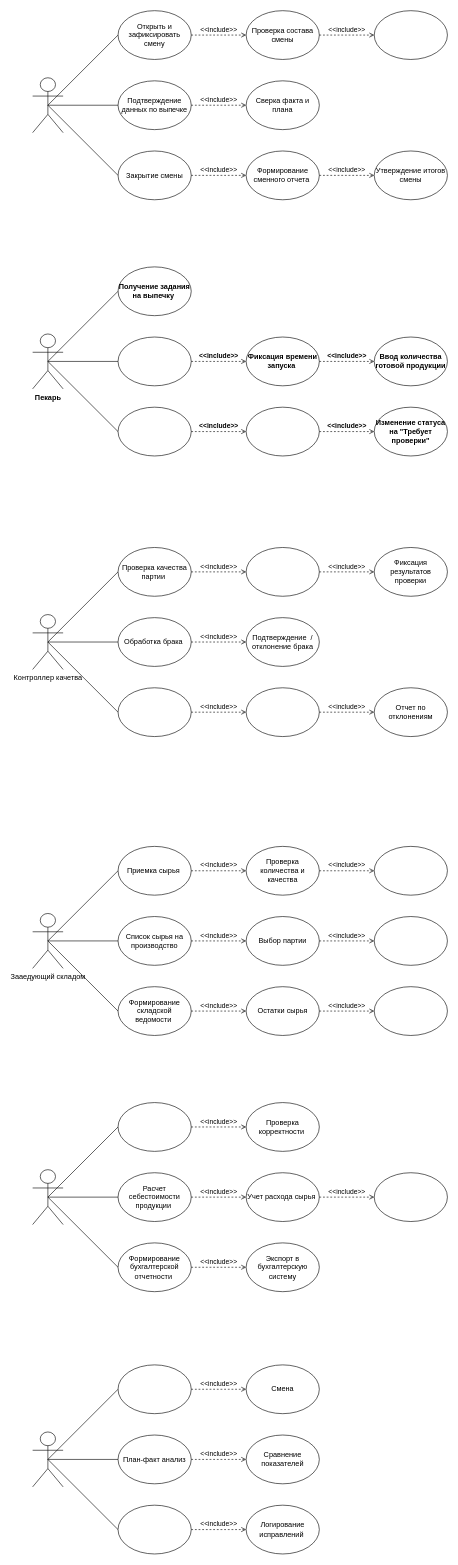
Image size: 458x1565. Some labels were removed from this diagram. The shapes that lost their labels are listed below. From the top down, each one's box as (x1, y1, x2, y2) in pixels, then its label:
(374, 10, 447, 59): Подтверждение готовности линии
(32, 77, 63, 133): Начальник смены
(117, 336, 191, 386): Регистрация партии продукции
(117, 407, 191, 456): Сообщение о браке
(246, 407, 319, 456): Указание причины
(246, 547, 319, 596): Сравнение с нормативами
(117, 687, 191, 737): Формирование отчета по качеству
(246, 687, 319, 737): Отчет по партиям
(374, 846, 447, 895): Ввод данных в систему
(374, 916, 447, 965): Указание расхода
(374, 986, 447, 1035): Остатки готовой продукции
(117, 1102, 191, 1151): Получение данных из сменных отчетов
(32, 1169, 63, 1225): Бухгалтер
(374, 1172, 447, 1222): Учет стоимости производственного цикла
(117, 1364, 191, 1414): Формирование данных
(32, 1431, 63, 1487): Специалист по учету
(117, 1505, 191, 1554): Коррекция данных
